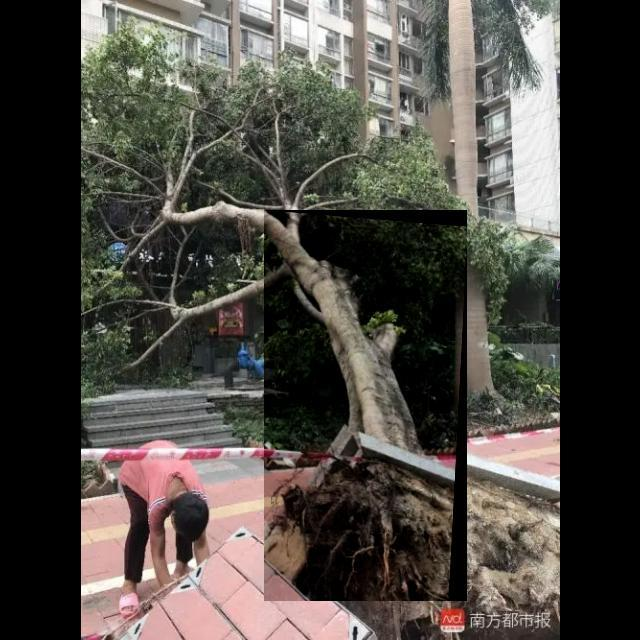fallen_tree: (264, 210, 468, 602)
